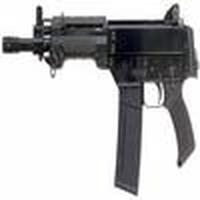gun: (2, 10, 200, 104)
